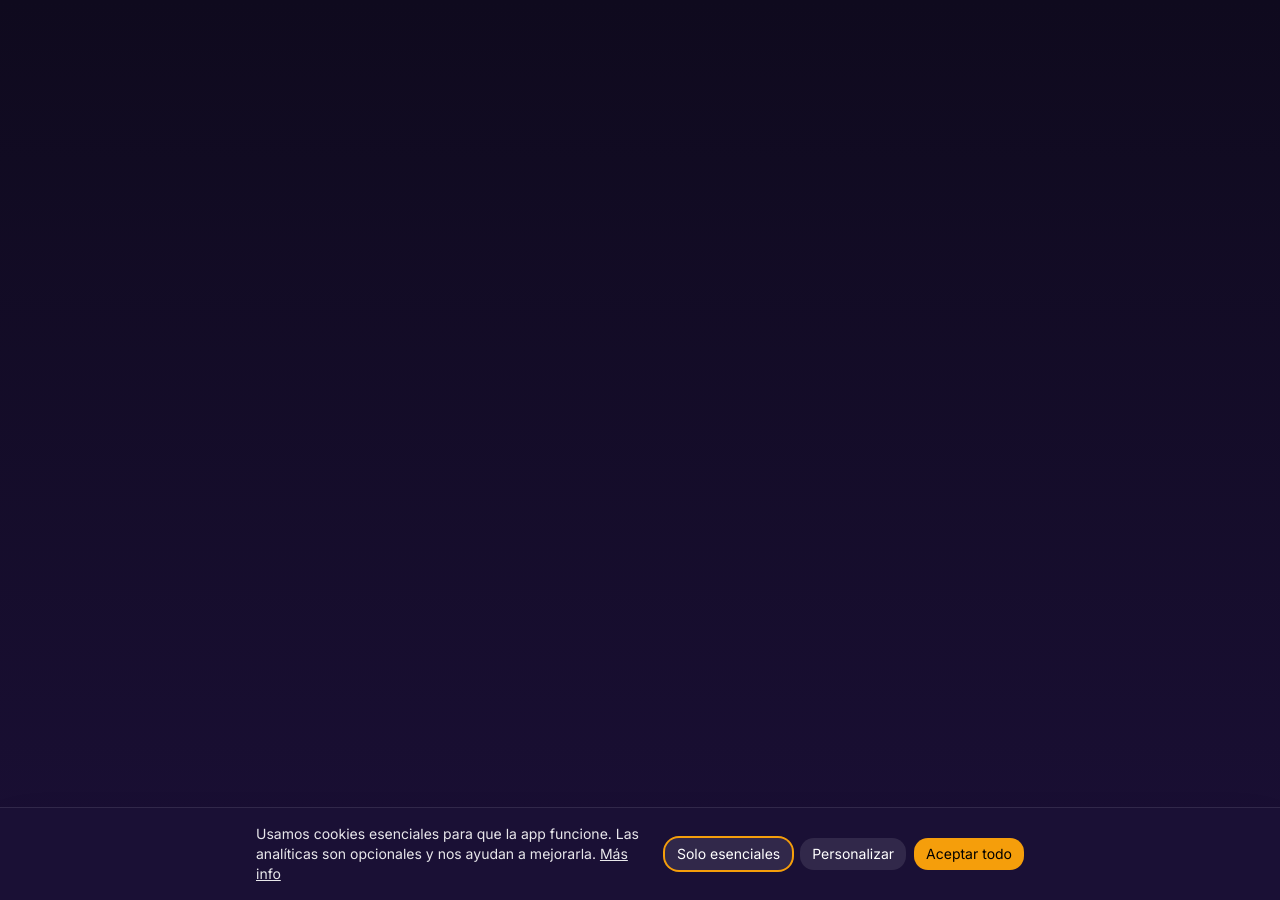
CookieConsentBanner › Personalizar abre modal con toggle de analítica
Step 1. Click the button with test id "btn-customize" → (853,854), box [800,838,906,870]
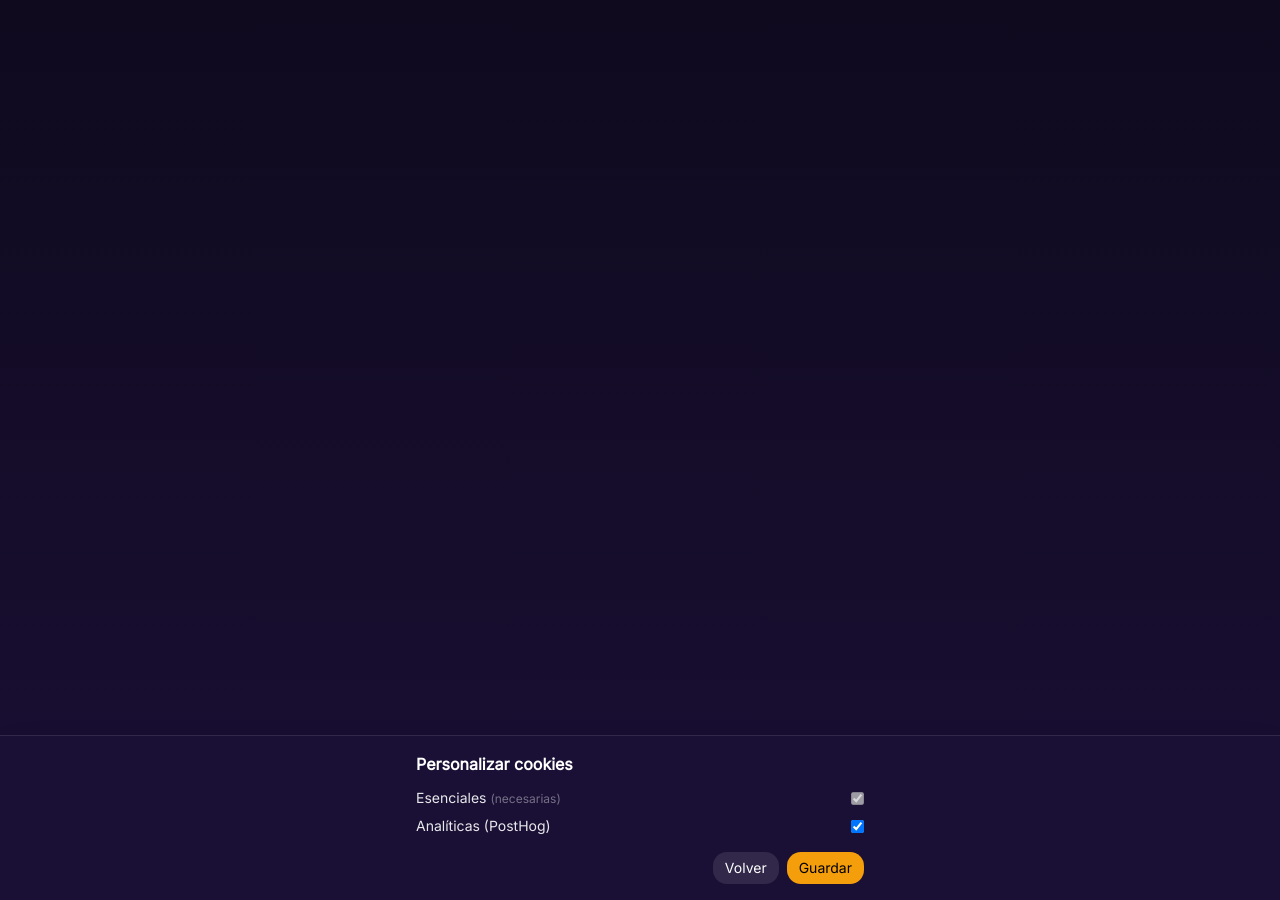
Check: the checkbox with test id "toggle-analytics" is shown, box [851,820,864,832]
